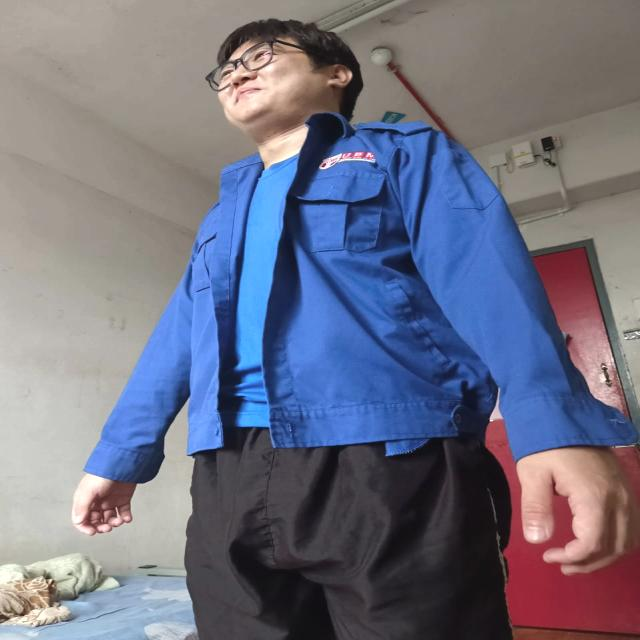person_with_labcoat: (72, 19, 639, 640)
